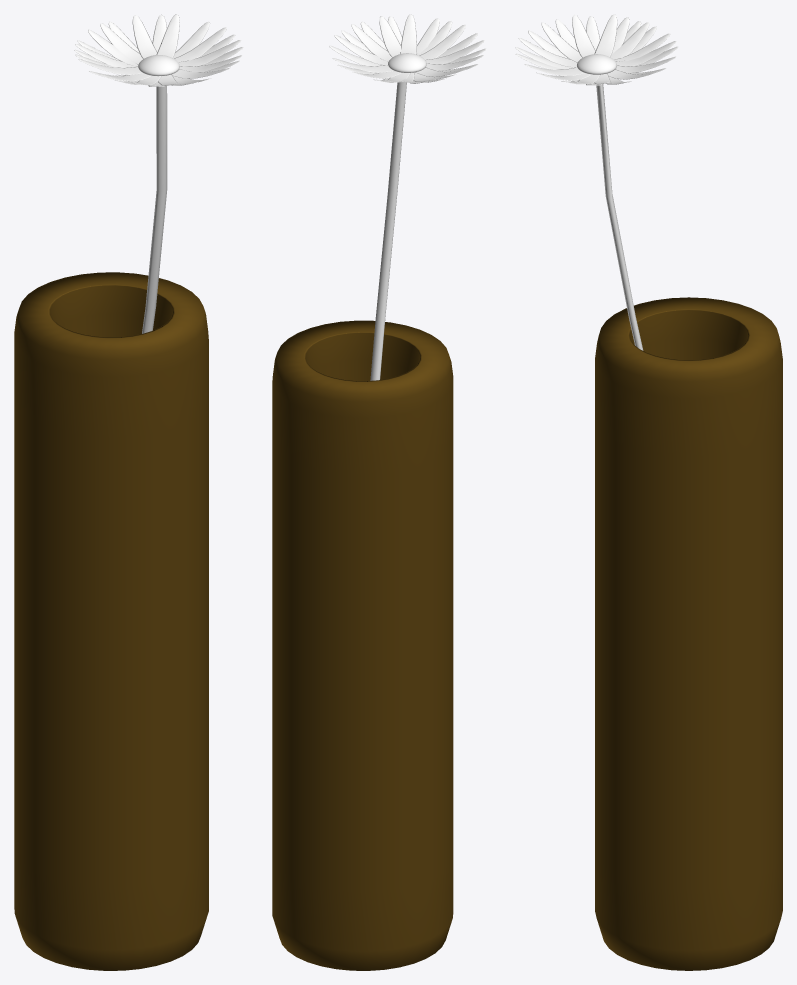
The model's file is DaisyStatue.fbx.
3 renders of one model, left to right at view 1: azimuth 30°, elevation 25°; view 2: azimuth 150°, elevation 25°; view 3: azimuth 270°, elevation 25°, orthographic. The views are drawn at different scales.
Visible parts, largest first — view 1: Cylinder, Daisy; view 2: Cylinder, Daisy; view 3: Cylinder, Daisy.
Boxes of the visible parts, <box> form: Cylinder: <box>14,272,208,970</box>; Daisy: <box>74,14,243,333</box>; Cylinder: <box>272,320,453,970</box>; Daisy: <box>329,14,486,380</box>; Cylinder: <box>595,297,782,970</box>; Daisy: <box>515,14,678,350</box>.
Bounding box in the file's own units: 184 × 957 × 262.
